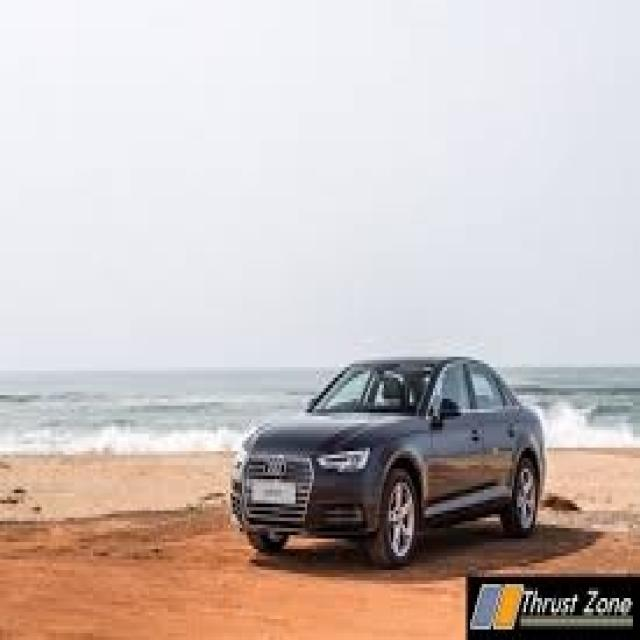black: (220, 352, 614, 556)
